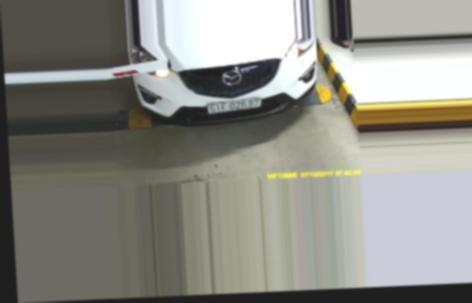License_Plate: (203, 97, 263, 113)
